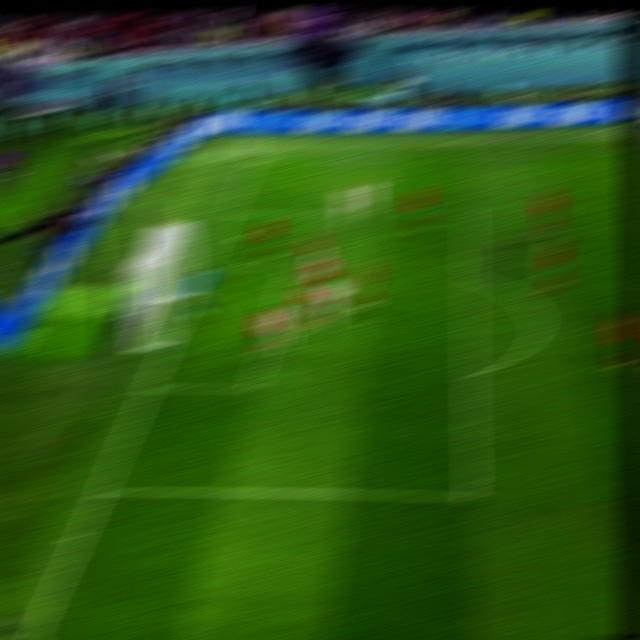bigarea_bottom_inner: (456, 487, 486, 508)
bigarea_bottom_outter: (87, 485, 114, 502)
bigarea_top_inner: (458, 207, 479, 220)
bigarea_top_outter: (220, 209, 240, 221)
bottom_arc_area_intersection: (460, 372, 481, 382)
corner: (244, 157, 266, 165)
smallarea_bottom_inner: (241, 380, 265, 394)
smallarea_bottom_outter: (138, 381, 161, 393)
smallarea_top_inner: (279, 263, 299, 273)
top_arc_area_intersection: (459, 273, 481, 286)
